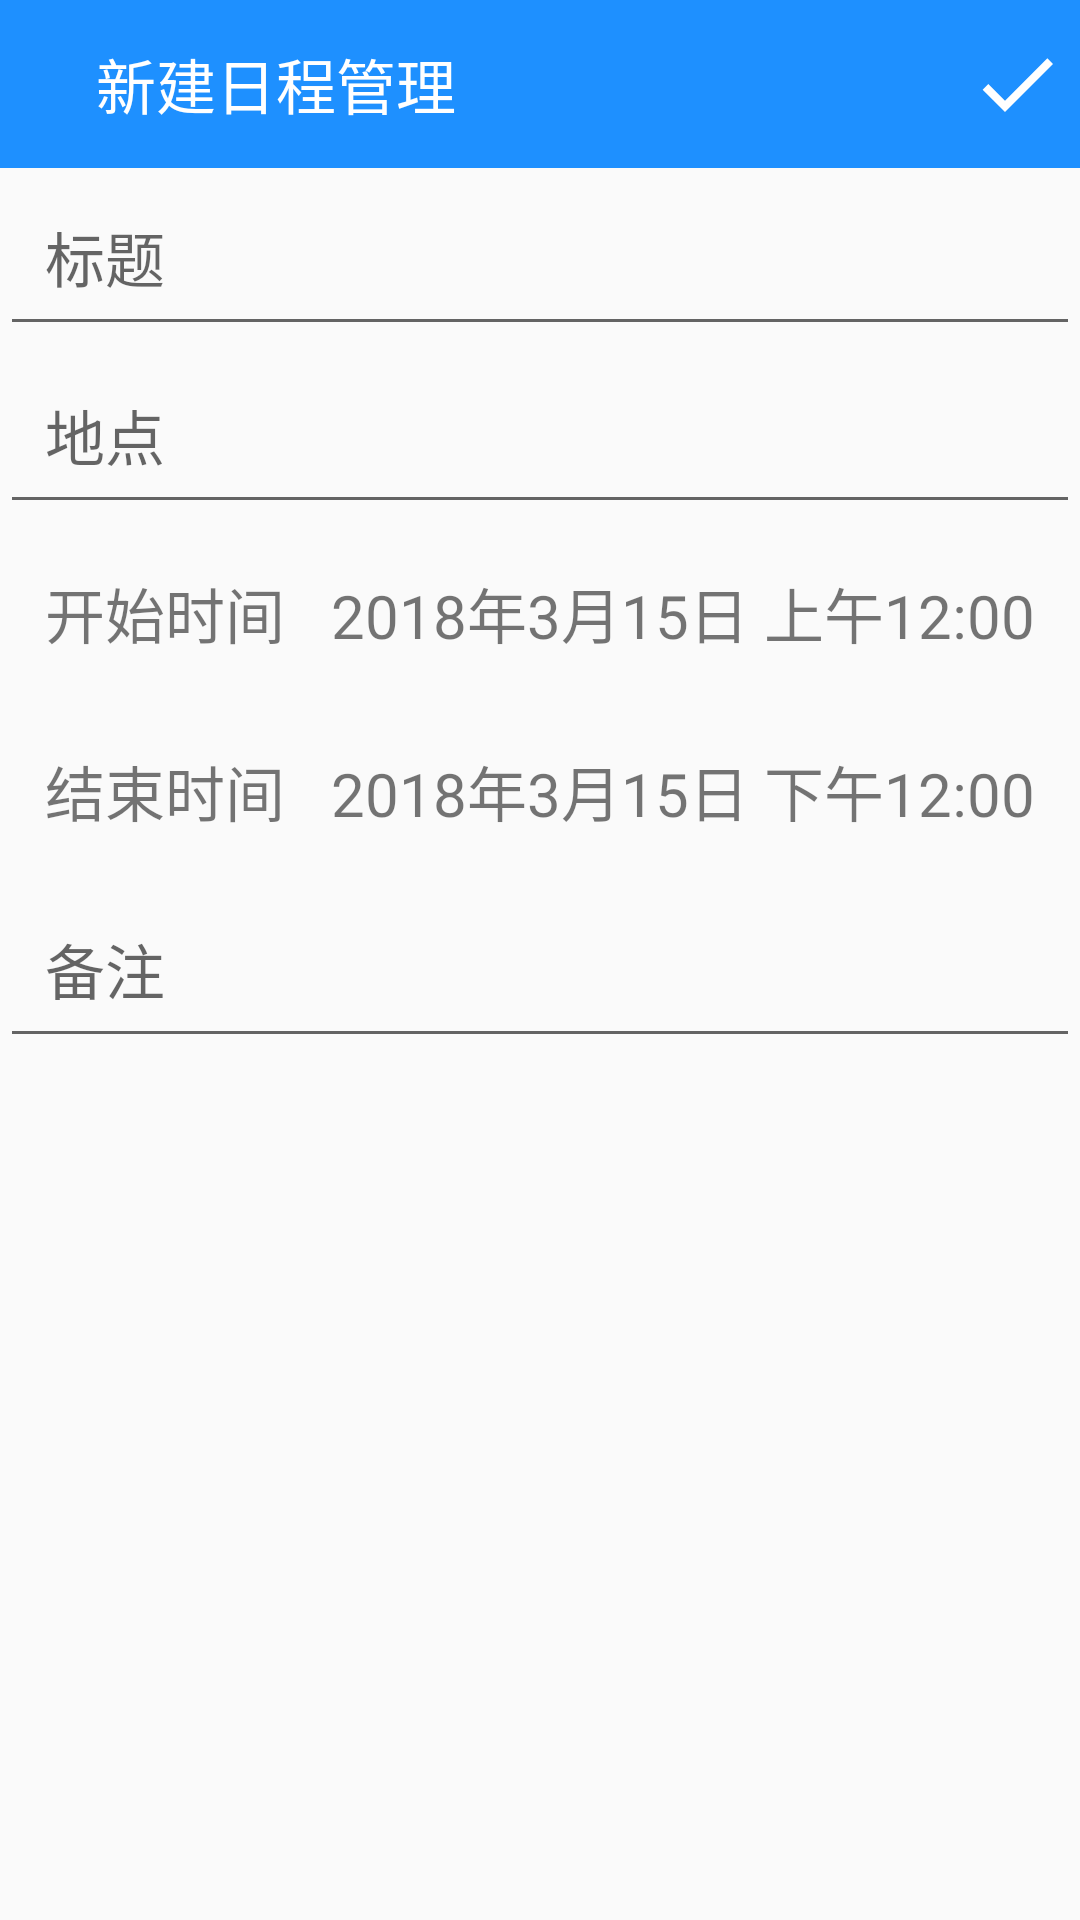

Icon click points for this 1080×1920 phone screenshot, format point (x, y):
save: point (1017, 85)
